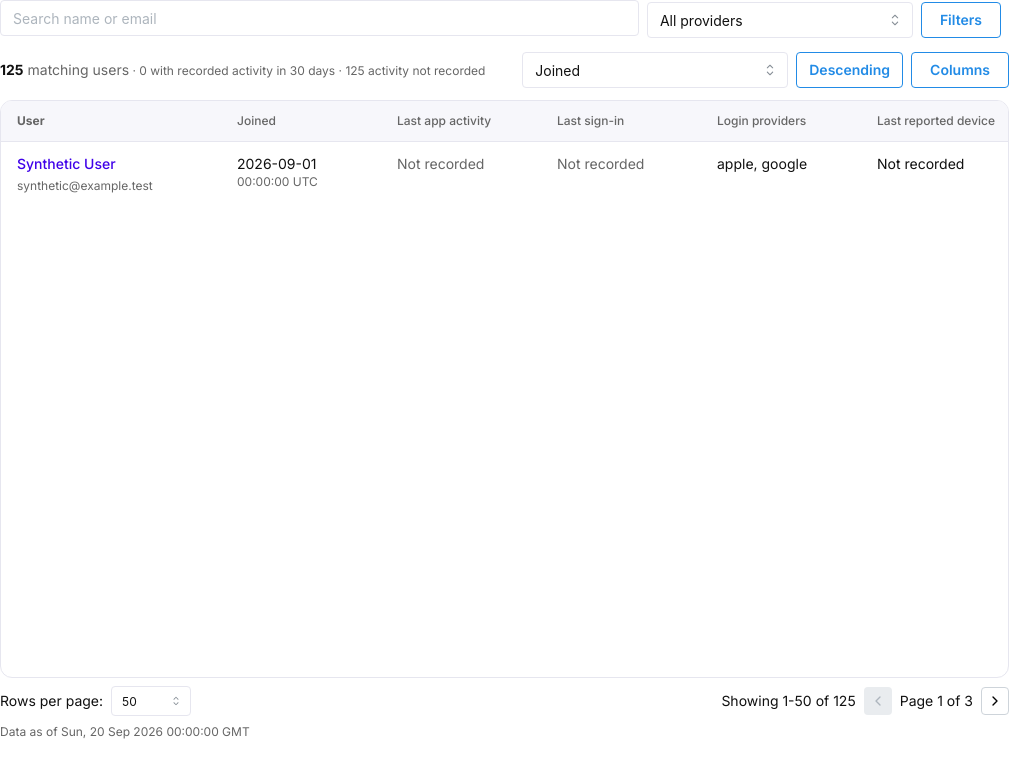
Test: Users table contract › stores column IDs per staff account and clears data on sign-out
What coordinates should you click on to do the following:
click the button "Columns"
I would click on:
 (960, 70)
Its box is [911,52,1009,88].
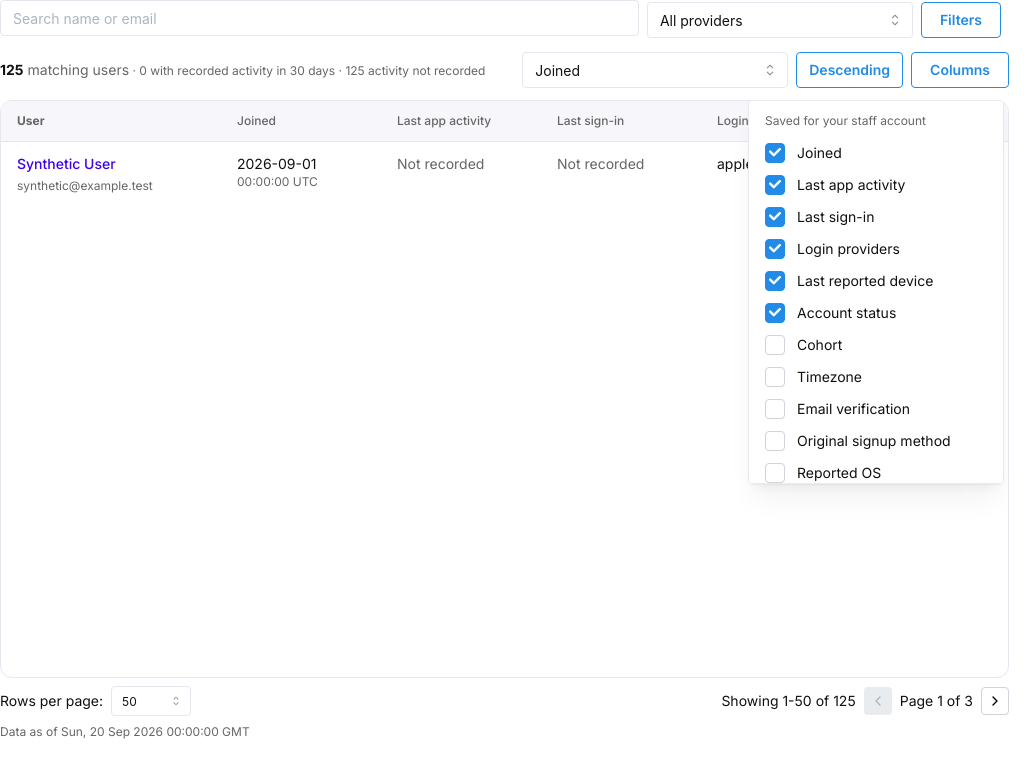
What coordinates should you click on to do the following:
click the checkbox labelled "Timezone"
I would click on:
 (775, 376)
Its box is [765,366,785,386].
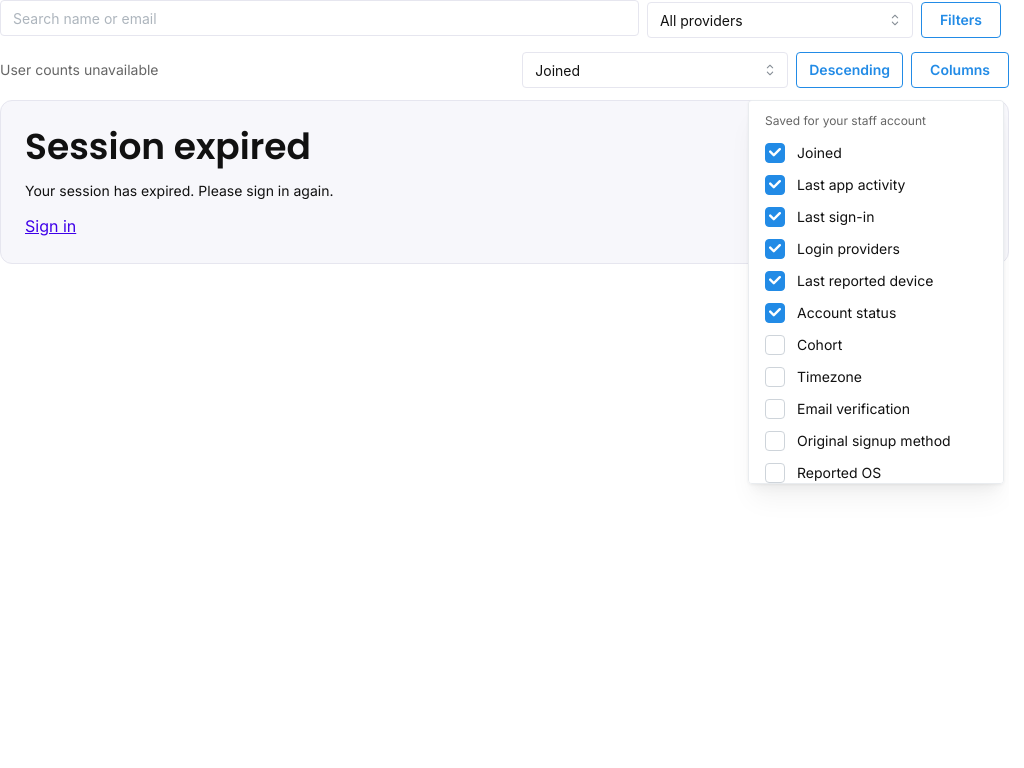
Check: the text "Synthetic User" is gone
Check: the text "Session expired" is shown, box [25,121,311,172]
